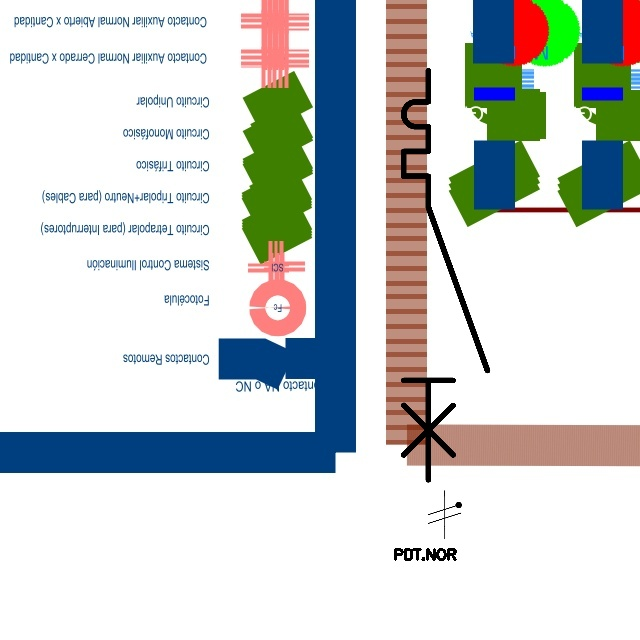interruptor_termomagnetico: (393, 60, 498, 490)
